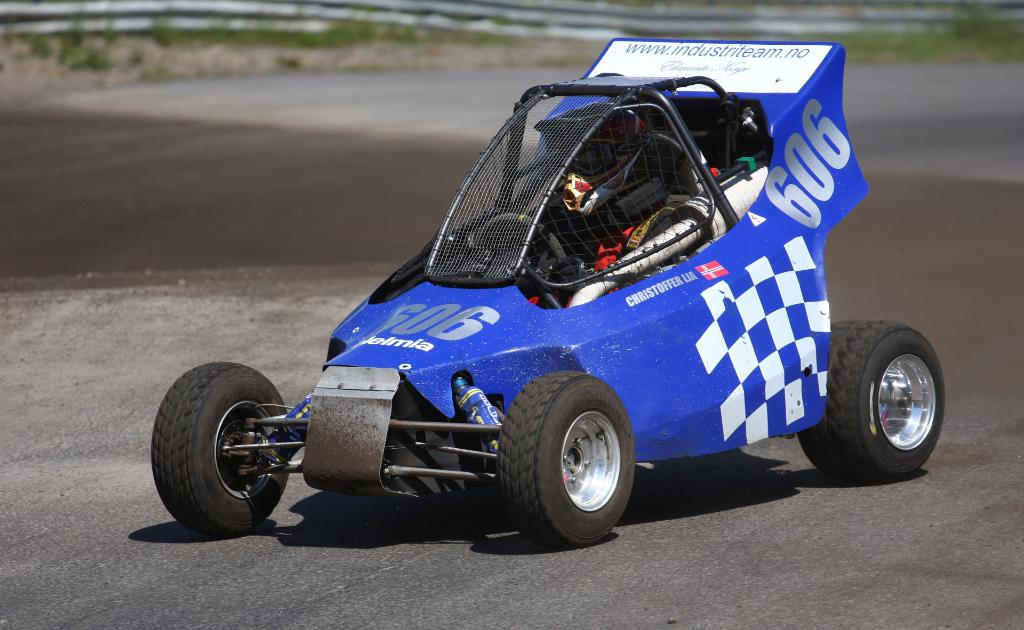cars: (163, 41, 867, 564)
